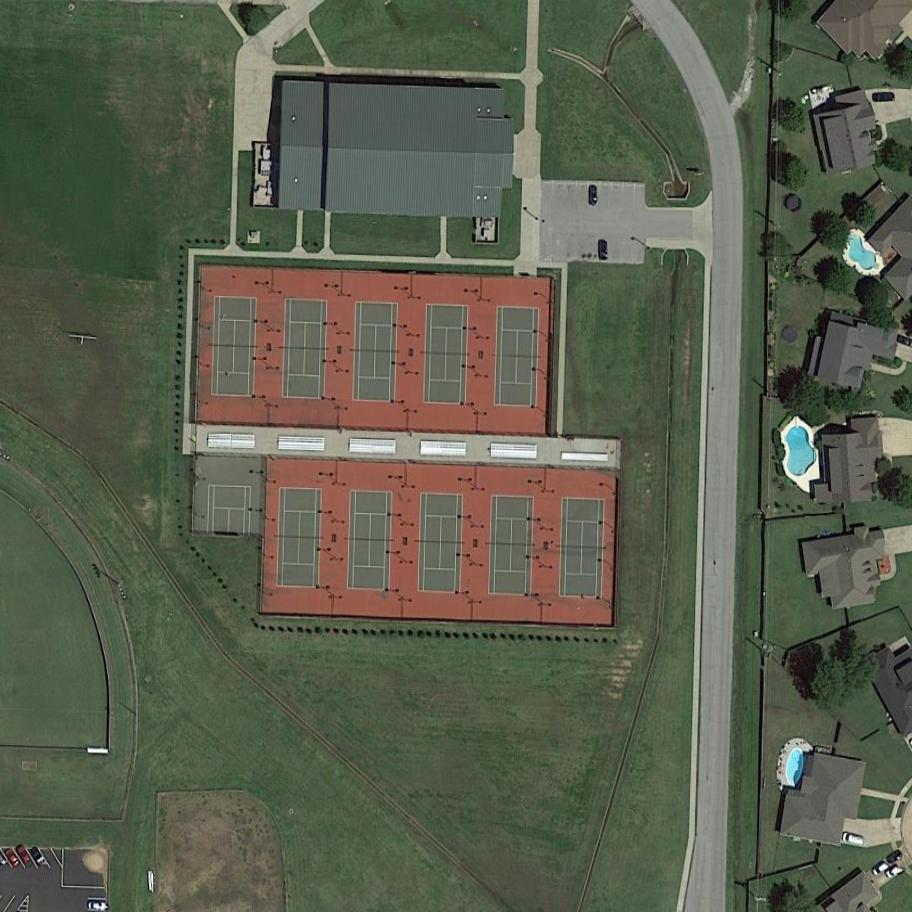small-vehicle: (885, 848, 906, 868), (4, 847, 22, 869), (15, 844, 33, 866), (30, 846, 48, 867), (842, 832, 866, 847), (871, 860, 891, 877), (884, 863, 903, 880), (873, 91, 896, 102), (87, 900, 109, 911), (598, 240, 609, 262), (589, 185, 598, 205)
